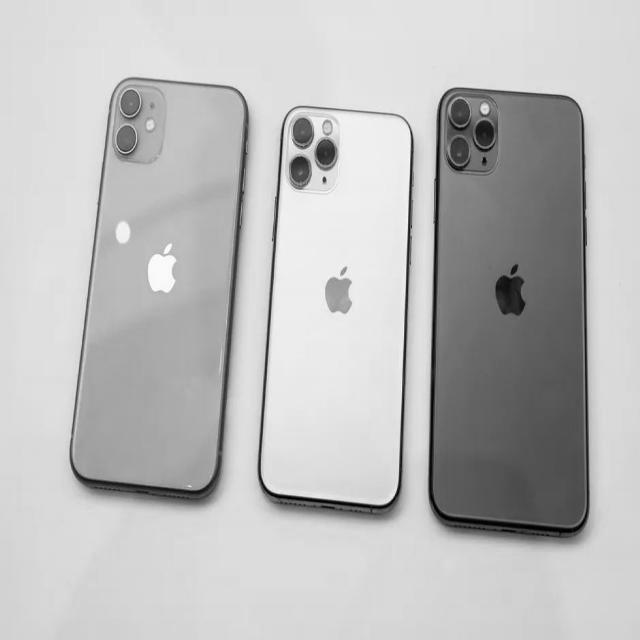fake: (60, 71, 264, 517), (430, 82, 590, 542), (257, 95, 418, 524)
